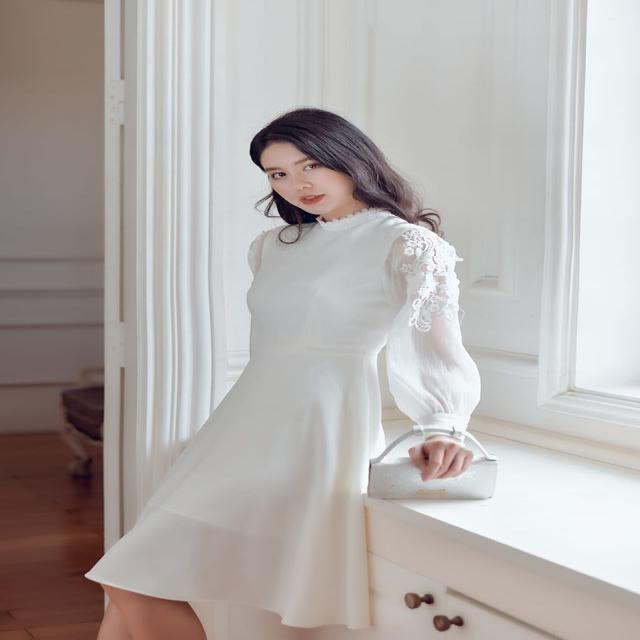clothes: (78, 210, 488, 619)
